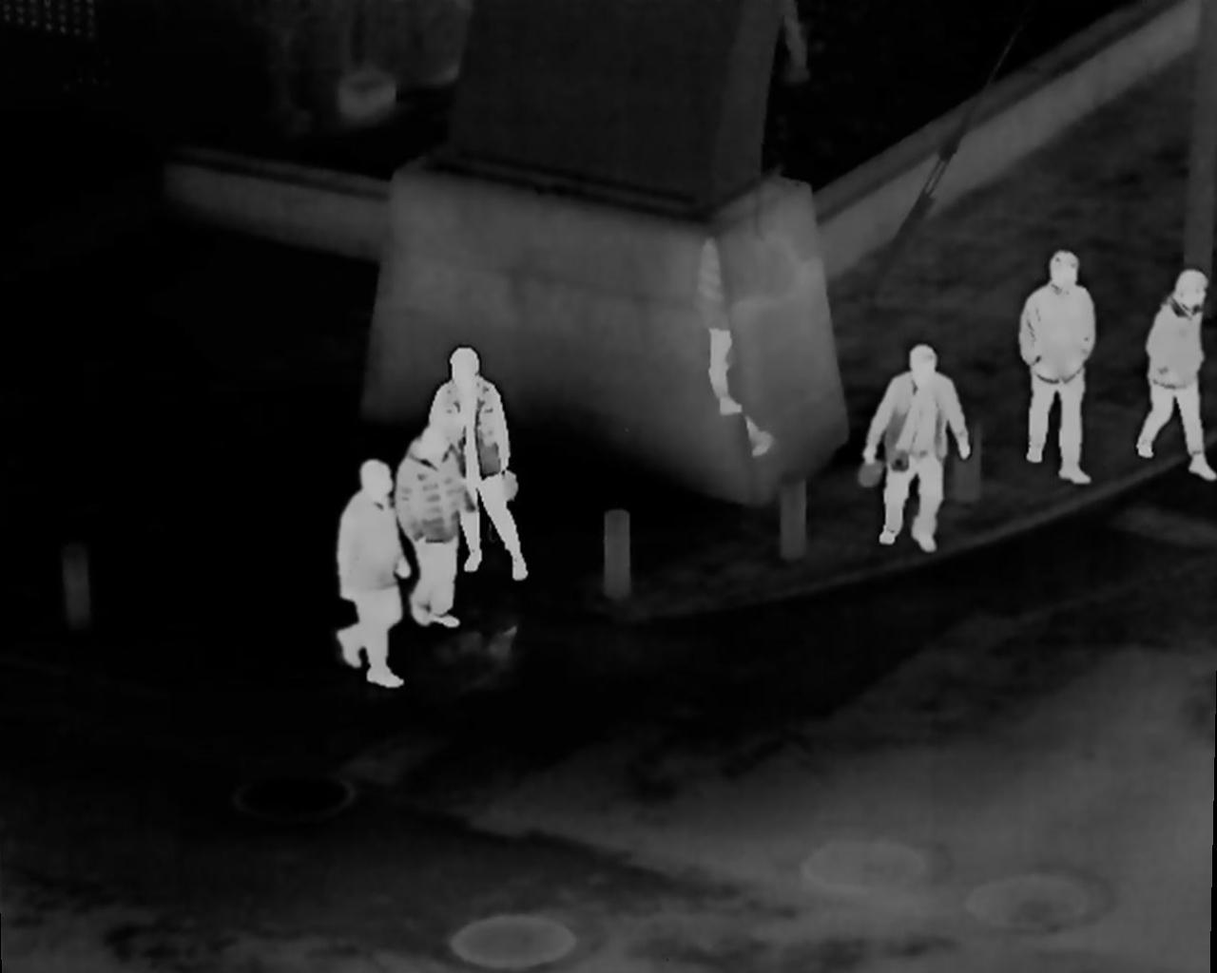person: (425, 348, 535, 577), (863, 342, 969, 562), (1012, 248, 1097, 486), (327, 458, 410, 682), (1127, 268, 1207, 484), (396, 401, 463, 635)
